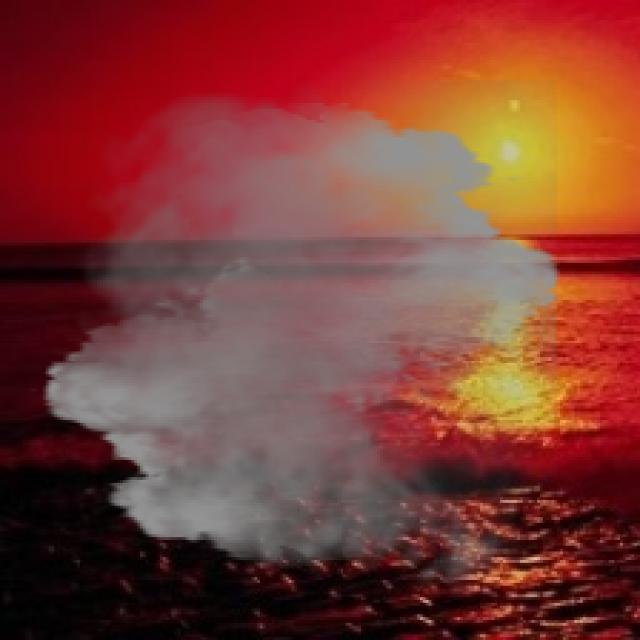smoke: (26, 80, 577, 603)
